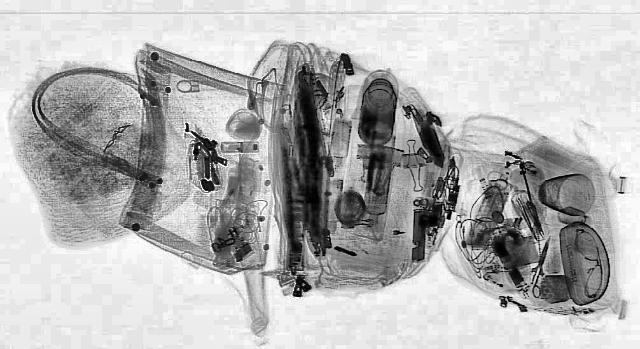Knife: (525, 234, 555, 287)
